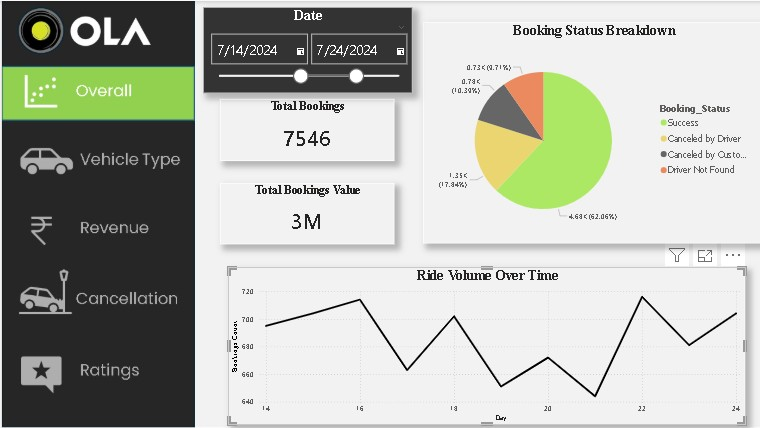

This screenshot's page, from the dashboard's own definition file:
{"tool":"powerbi","page":{"name":"Overall","canvas":[1280,720],"ordinal":0},"visuals":[{"type":"actionButton","box":[0,221.8,322.6,92.2],"z":0},{"type":"actionButton","box":[0,341.3,322.6,89.3],"z":1000},{"type":"actionButton","box":[0,457.9,322.6,89.3],"z":2000},{"type":"actionButton","box":[0,580.3,322.6,89.3],"z":3000},{"type":"lineChart","title":"Ride Volume Over Time","fields":{"Y":["CountNonNull(bookings.Booking_ID)"],"Category":["bookings.Date.Variation.Date Hierarchy.Day"]},"box":[379.7,447.2,869.5,265.4],"z":4000},{"type":"pieChart","title":"Booking Status Breakdown","fields":{"Y":["CountNonNull(bookings.Booking_Status)"],"Category":["bookings.Booking_Status"]},"box":[706.7,35.2,573.3,372.4],"z":5000},{"type":"slicer","title":"Date","fields":{"Values":["bookings.Date"]},"box":[337.2,10.3,351.9,145.2],"z":6000},{"type":"cardVisual","title":"Total Bookings","fields":{"Data":["Count(bookings.Booking_ID)"]},"box":[366.6,164.2,293.2,104.1],"z":7000},{"type":"cardVisual","title":"Total Bookings Value","fields":{"Data":["Sum(bookings.Booking_Value)"]},"box":[366.6,305,293.2,102.6],"z":8000}]}

Visuals, with their boxes in screenshot pixels (x1, y1, x2, y2), scaled from the page's 1280x720 canvas onto the 760x428 screenshot:
actionButton: 0:132:192:187
actionButton: 0:203:192:256
actionButton: 0:272:192:325
actionButton: 0:345:192:398
"Ride Volume Over Time" lineChart: 225:266:742:424
"Booking Status Breakdown" pieChart: 420:21:759:242
"Date" slicer: 200:6:409:92
"Total Bookings" cardVisual: 218:98:392:159
"Total Bookings Value" cardVisual: 218:181:392:242
